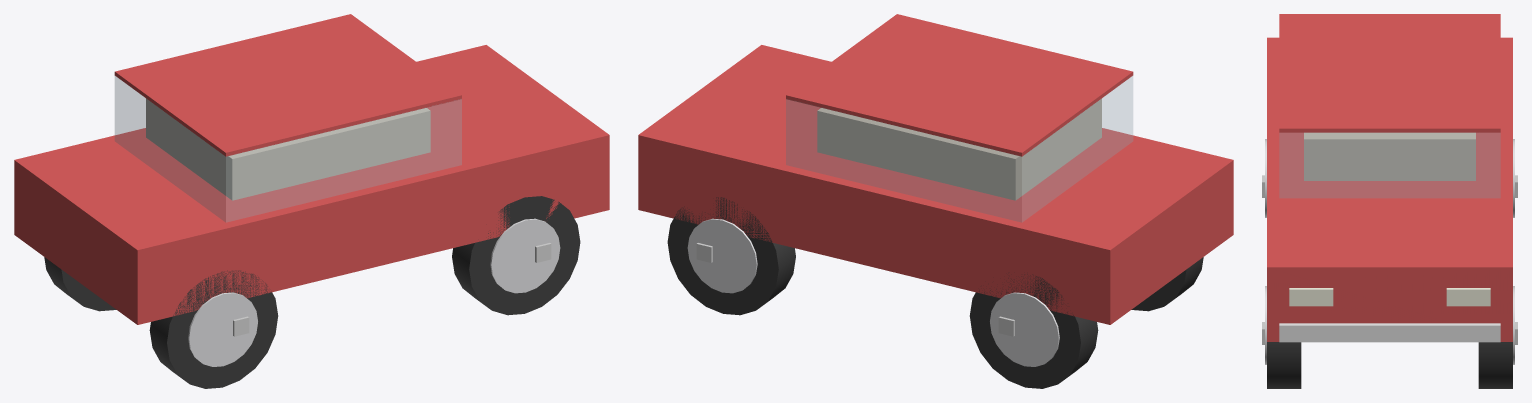
File: de_carModel_spark.glb
The picture shows the model from 3 angles, left to right: view 1: azimuth 30°, elevation 25°; view 2: azimuth 150°, elevation 25°; view 3: azimuth 270°, elevation 25°; orthographic projection.
Parts seen in each view (by area): view 1: PlaceholderCar; view 2: PlaceholderCar; view 3: PlaceholderCar.
Boxes of the visible parts, bbox=[...] form: PlaceholderCar: bbox=[14, 14, 609, 388]; PlaceholderCar: bbox=[638, 14, 1233, 388]; PlaceholderCar: bbox=[1262, 14, 1517, 388].
Size of the model in its own units: 3.84 by 1.75 by 1.79.
